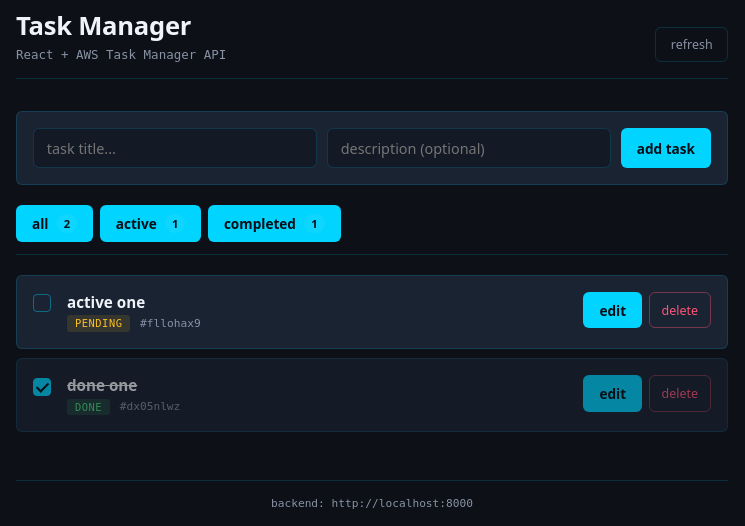
Test case: App: filtering tasks › shows only completed tasks when 'completed' filter is selected
Check: the text "active one" is shown, box [67,292,145,312]
Click the button "completed 1" at [274, 224], box [208,205,341,242]
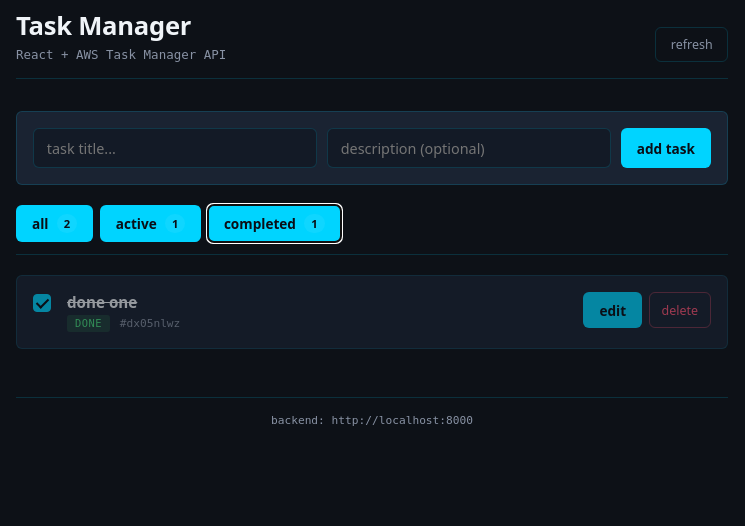
Check: the text "done one" is shown, box [67,292,137,312]
Check: the text "active one" is gone
